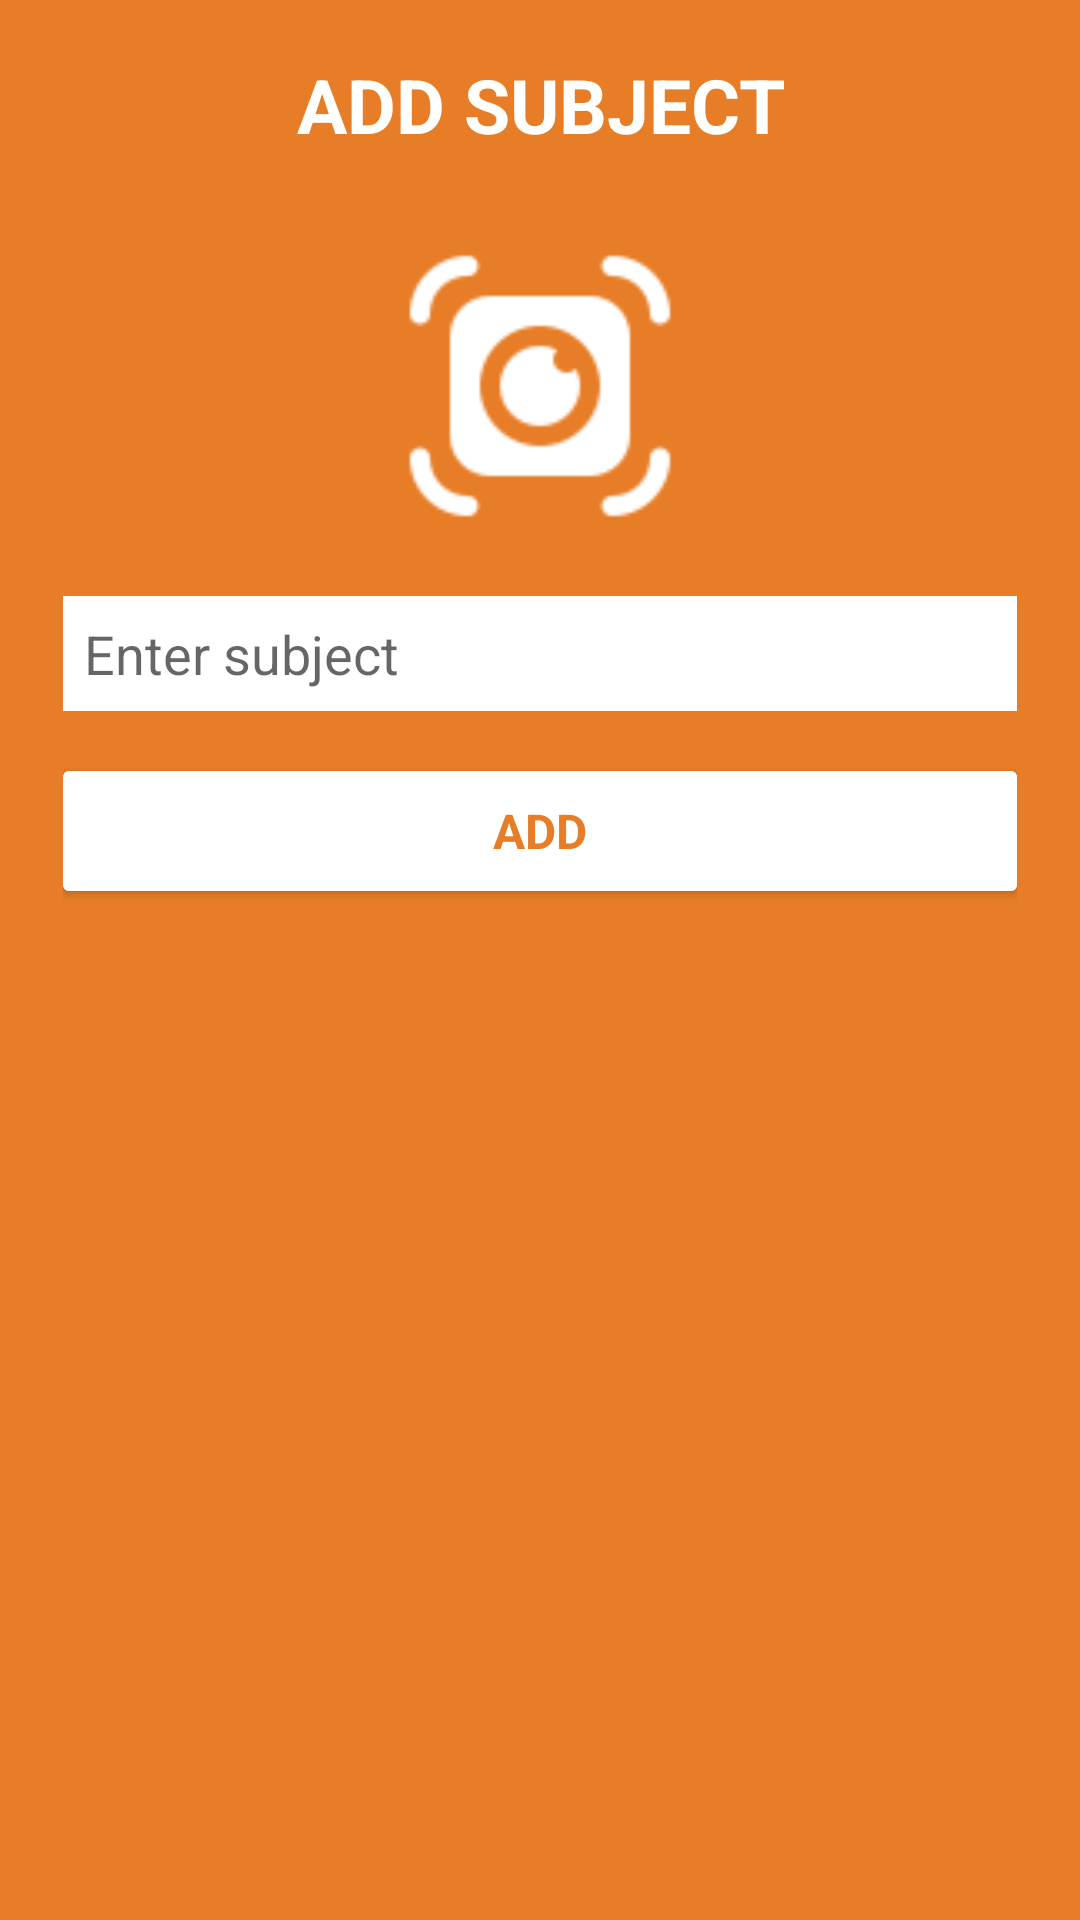

Named icons in this screenshot (1080w x 1920h) and their bounding boxes, {"x1": x1, "y1": y1, "x2": x2, "y2": y2}:
imageadd: {"x1": 409, "y1": 255, "x2": 671, "y2": 517}
